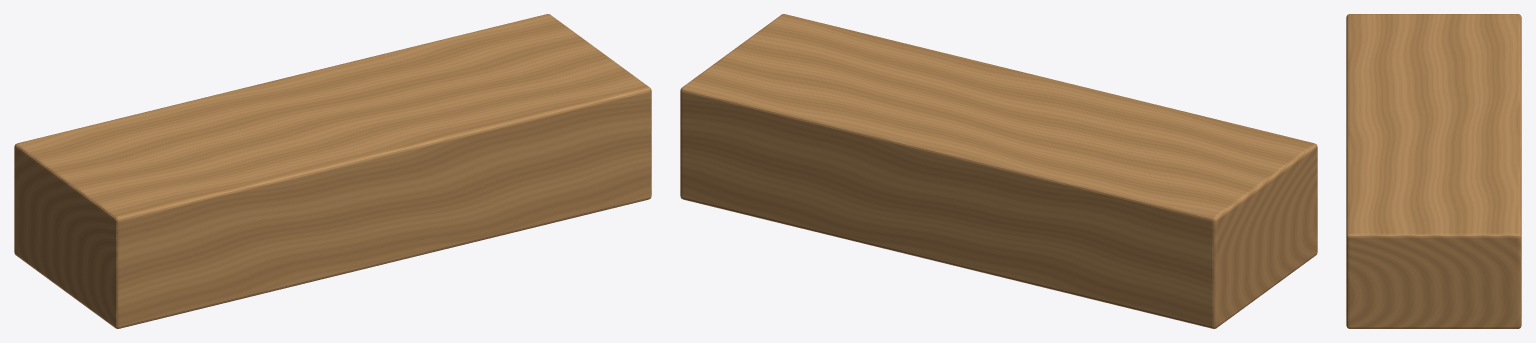
The model's file is wood_block.glb.
3 renders of one model, left to right at view 1: azimuth 30°, elevation 25°; view 2: azimuth 150°, elevation 25°; view 3: azimuth 270°, elevation 25°, orthographic. The views are drawn at different scales.
Parts seen in each view (by area): view 1: Block_L01_S1; view 2: Block_L01_S1; view 3: Block_L01_S1.
Boxes of the visible parts, bbox=[...] form: Block_L01_S1: bbox=[14, 14, 651, 328]; Block_L01_S1: bbox=[680, 14, 1317, 328]; Block_L01_S1: bbox=[1346, 14, 1521, 328].
Size of the model in its own units: 0.075 by 0.015 by 0.025.
Materials: 1 (1 with a texture image).
